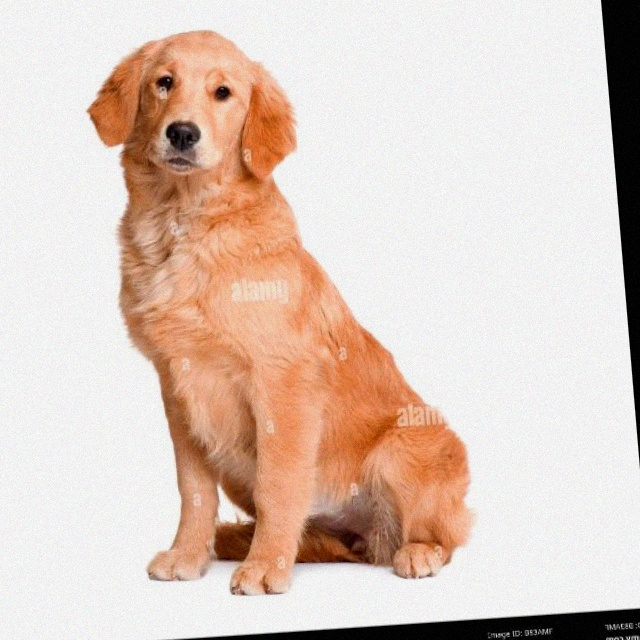dog: (83, 0, 496, 622)
